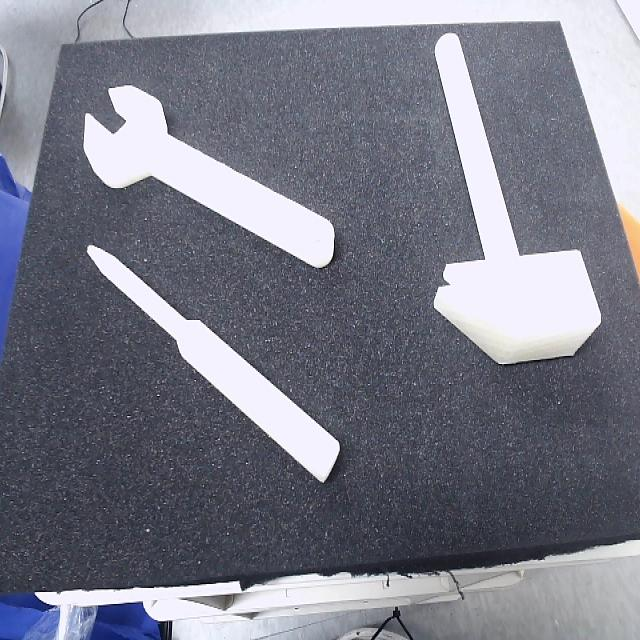Driver: (87, 247, 342, 484)
Hammer: (434, 33, 602, 367)
Spanner: (82, 87, 336, 271)
